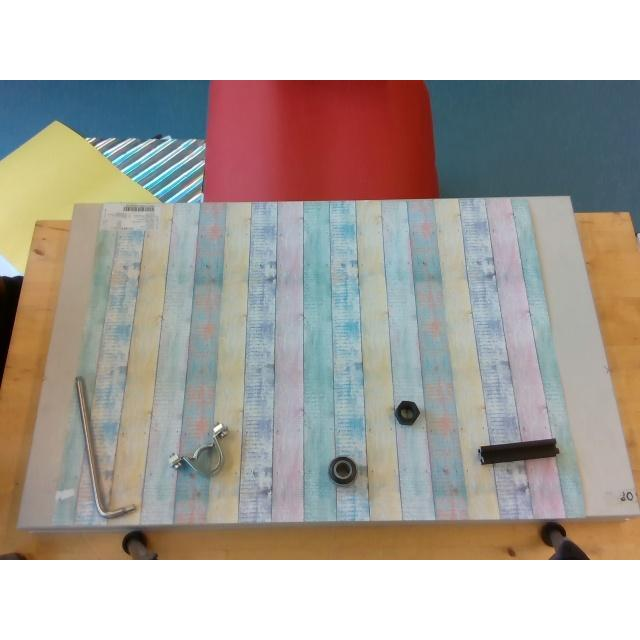AllenKey: (76, 376, 136, 518)
Bearing2: (328, 456, 356, 484)
F20_20_B: (478, 438, 558, 464)
Housing: (168, 423, 228, 477)
M20: (396, 401, 420, 425)
